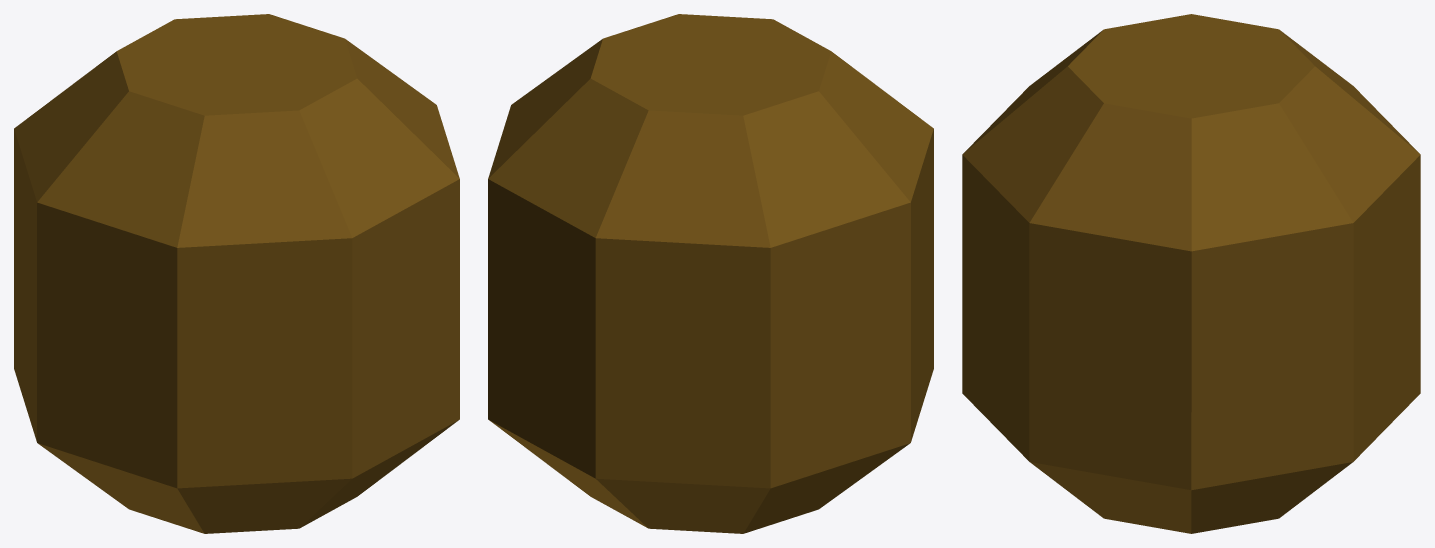
The model's file is Coconut.fbx.
3 renders of one model, left to right at view 1: azimuth 30°, elevation 25°; view 2: azimuth 150°, elevation 25°; view 3: azimuth 270°, elevation 25°, orthographic.
Visible parts, largest first — view 1: Circle; view 2: Circle; view 3: Circle.
Part boxes in pixels (x1,y1,x2,y2): Circle: [14, 14, 459, 533]; Circle: [488, 14, 933, 533]; Circle: [962, 14, 1420, 533].
Bounding box in the file's own units: 200 × 200 × 200.
